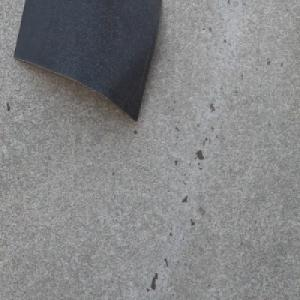PaintChip: (12, 0, 162, 123)
